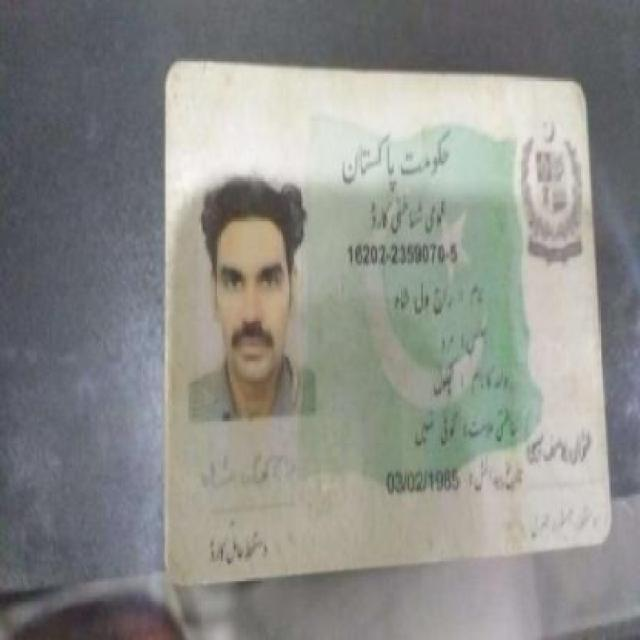Front: (157, 52, 615, 580)
